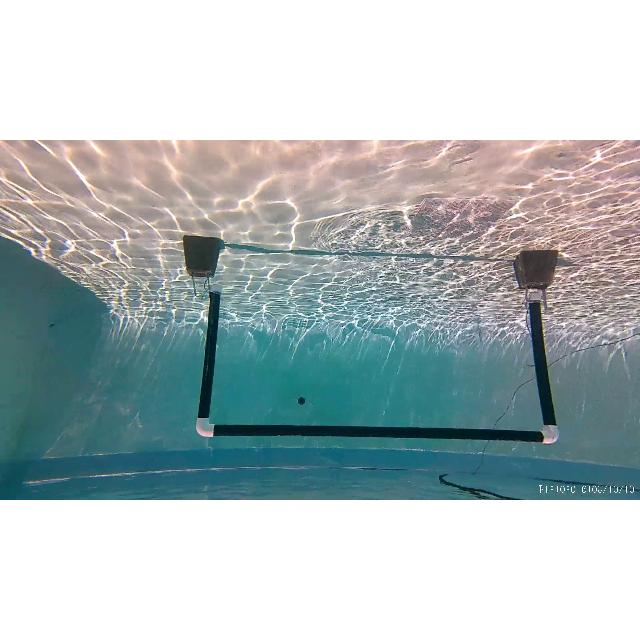prequal gate: (192, 280, 564, 446)
prequal gate leg l: (522, 289, 560, 446)
prequal gate leg r: (194, 282, 222, 442)
